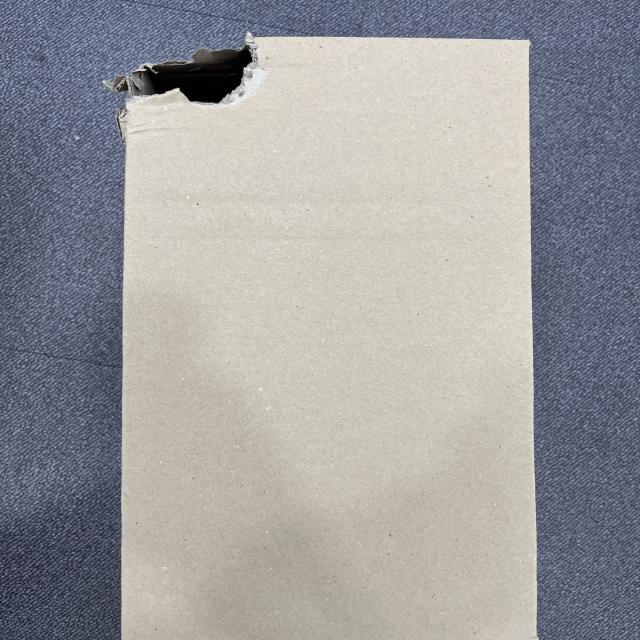hole: (123, 39, 273, 117)
